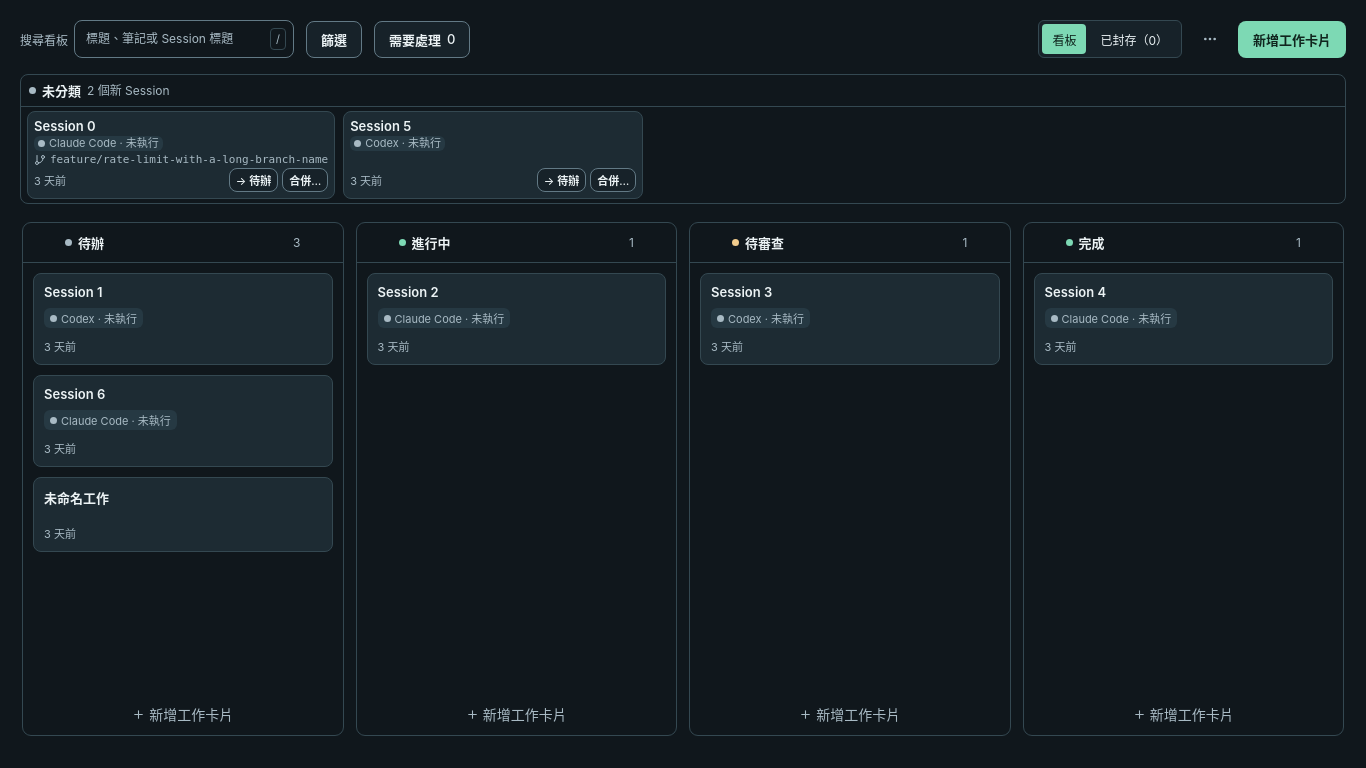
project board › adds a column with doing as its default stage
The image size is (1366, 768).
Expected: the heading "未分類" is shown, [42,81,81,100]
Click the button named "看板操作" at (1210, 39), box [1194,23,1226,55]
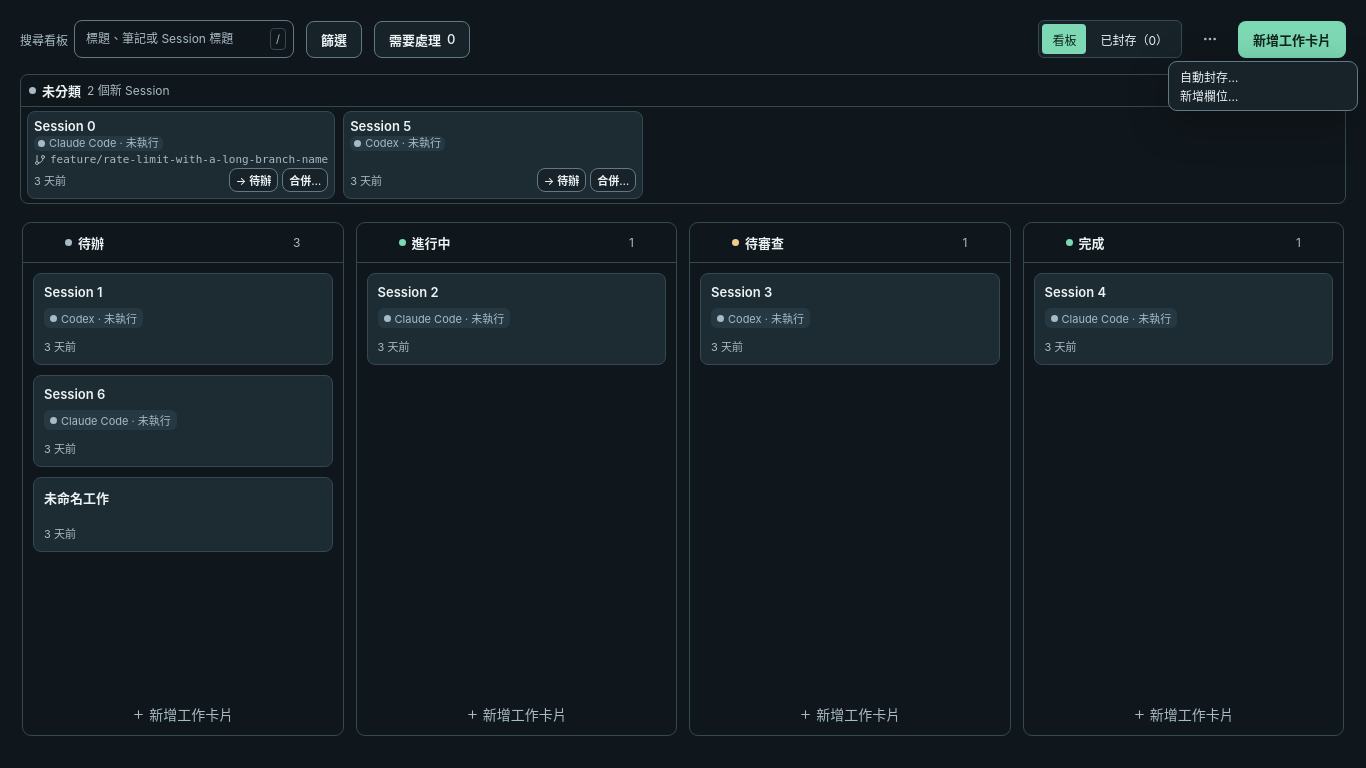
Click the button "新增欄位…" at (1263, 96), box [1174,86,1352,105]
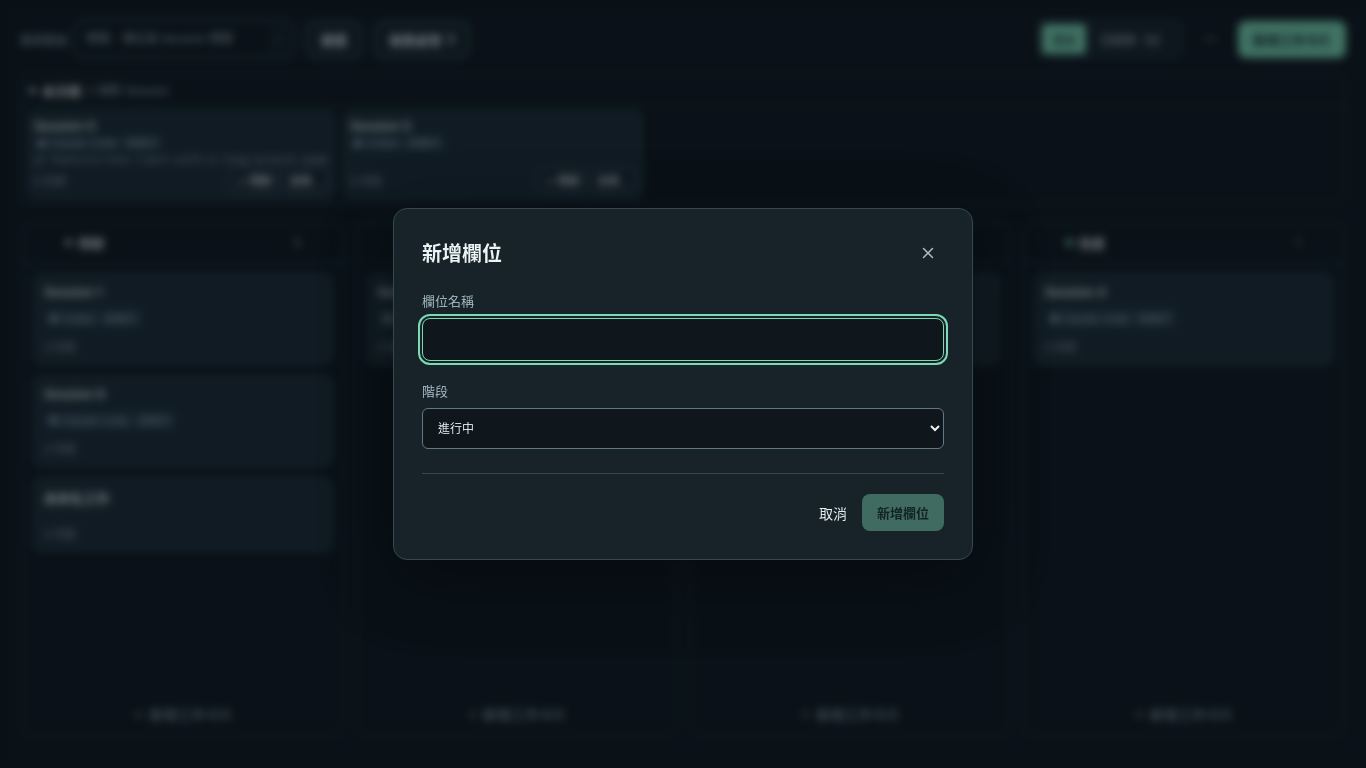
Result: the dropdown labelled "階段" shows "進行中" at [422,408,944,449]
Type "Quality" into the field labelled "欄位名稱" at (683, 340), box [422,318,944,361]
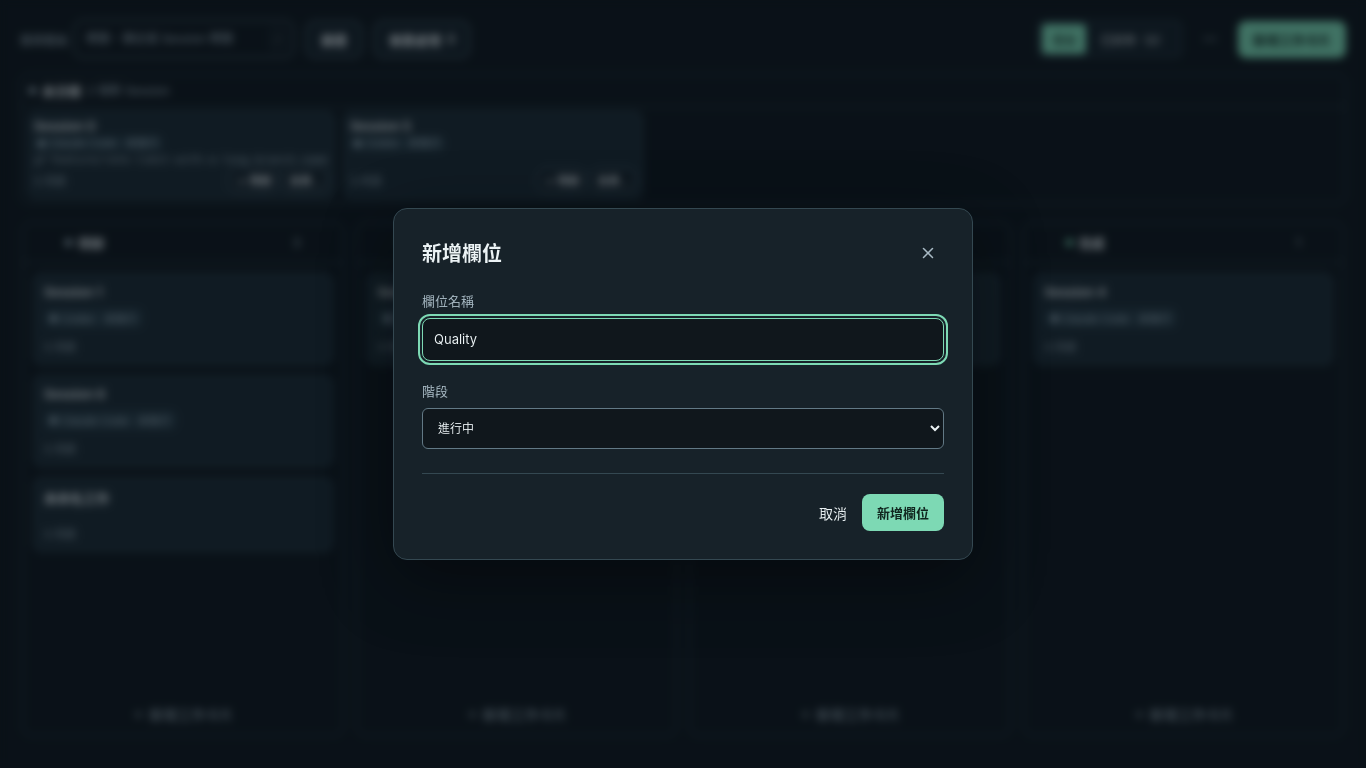
Click the button "新增欄位" at (903, 513), box [862,494,944,531]
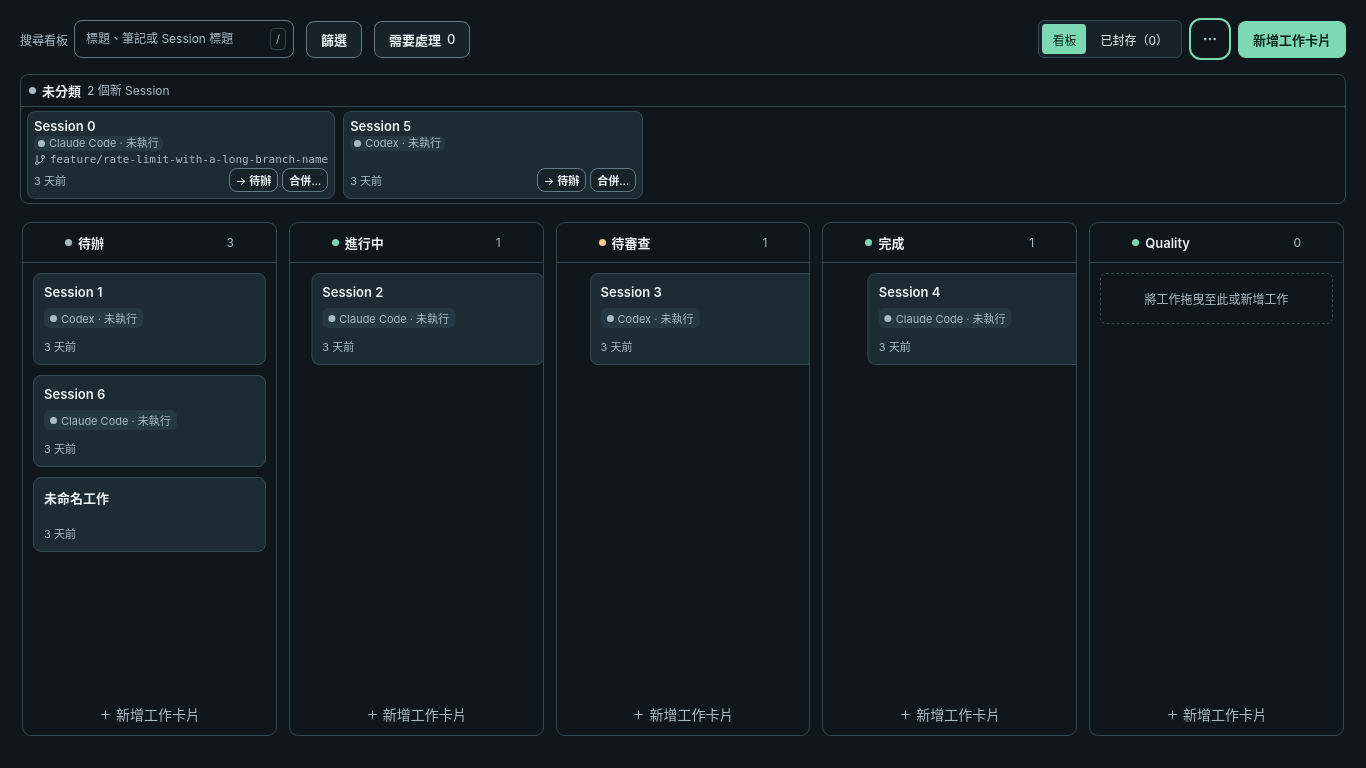
Result: the heading "Quality" is shown at [1145,234,1190,250]
